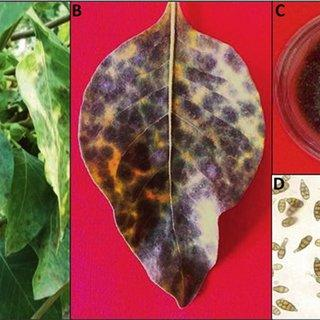leaf_spot: (55, 14, 286, 303)
